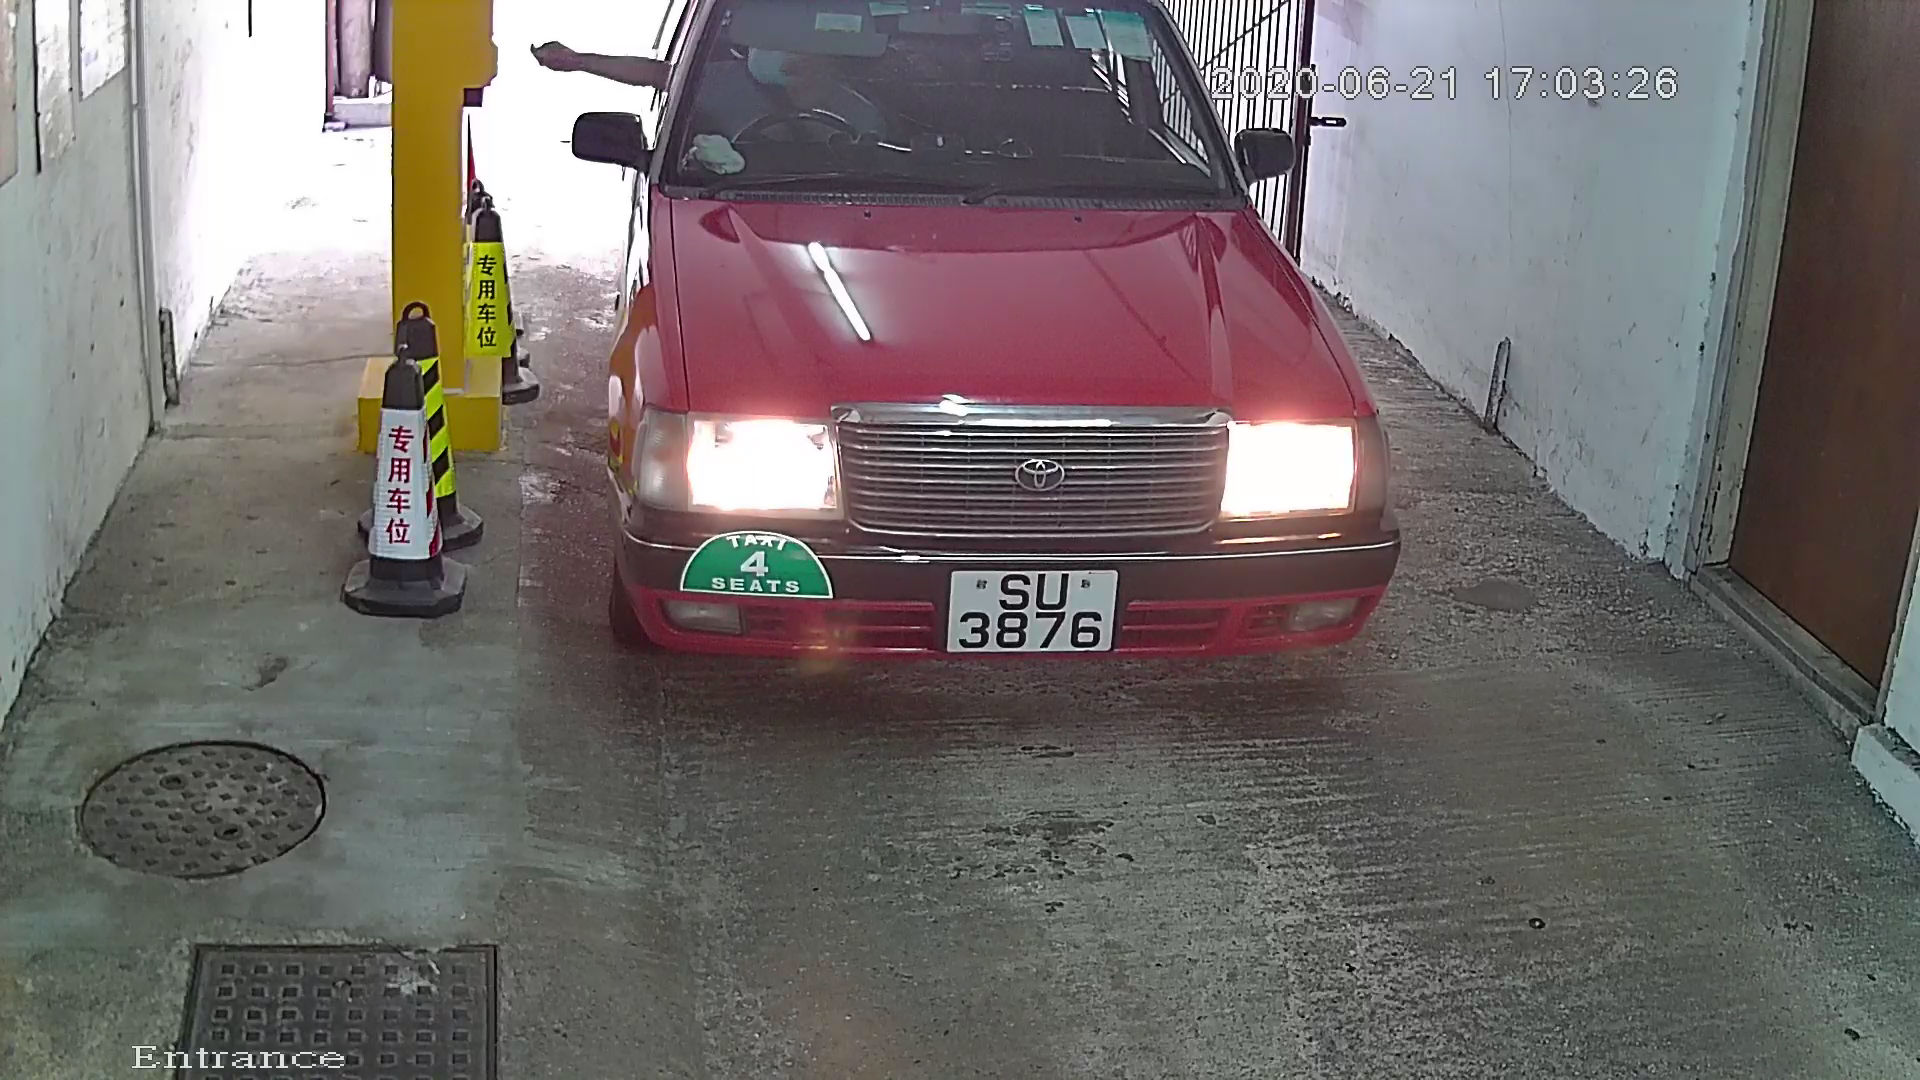taxi: (553, 1, 1474, 775)
taxi_mark: (658, 498, 880, 640)
